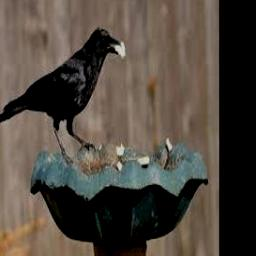Crow: (0, 26, 125, 162)
